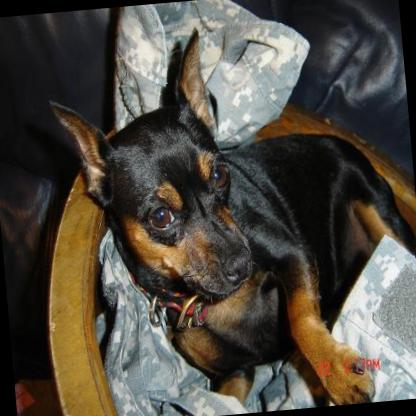miniature_pinscher: (42, 8, 416, 416)
